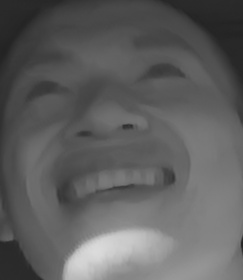eye: (23, 75, 78, 105), (140, 58, 188, 88)
mouth: (45, 152, 182, 216)
